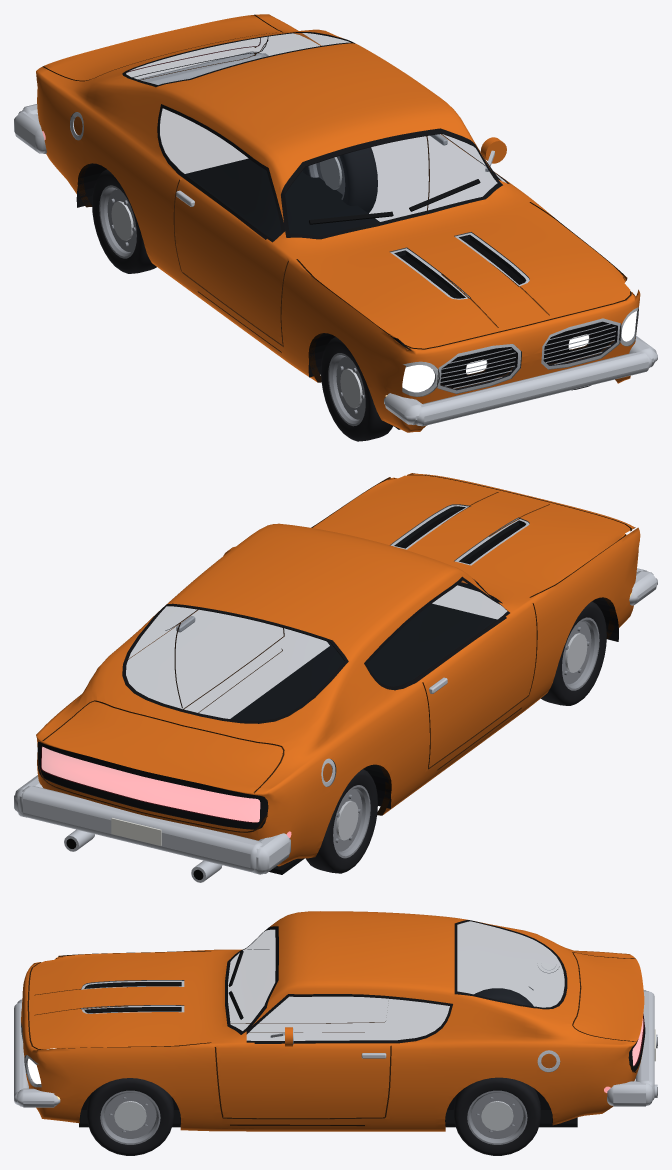
Rendered from car_muscle.glb.
The picture shows the model from 3 angles, top to bottom: view 1: azimuth 30°, elevation 25°; view 2: azimuth 150°, elevation 25°; view 3: azimuth 270°, elevation 25°; orthographic projection. The views are drawn at different scales.
Visible parts, largest first — view 1: body, wheel_fl, wheel_rl, wheel_rr; view 2: body, wheel_rl, wheel_fl; view 3: body, wheel_rr, wheel_fr, wheel_rl.
Boxes of the visible parts, left/top/right/bottom form: body: left=14, top=14, right=657, bottom=432; wheel_fl: left=321, top=337, right=393, bottom=441; wheel_rl: left=92, top=169, right=156, bottom=273; wheel_rr: left=302, top=147, right=377, bottom=213; body: left=14, top=473, right=657, bottom=882; wheel_rl: left=305, top=769, right=377, bottom=873; wheel_fl: left=541, top=601, right=606, bottom=705; body: left=14, top=911, right=657, bottom=1131; wheel_rr: left=453, top=1077, right=540, bottom=1155; wheel_fr: left=86, top=1078, right=174, bottom=1155; wheel_rl: left=474, top=988, right=533, bottom=1006.
Size of the model in its own units: 1.9 by 1.44 by 4.92.
